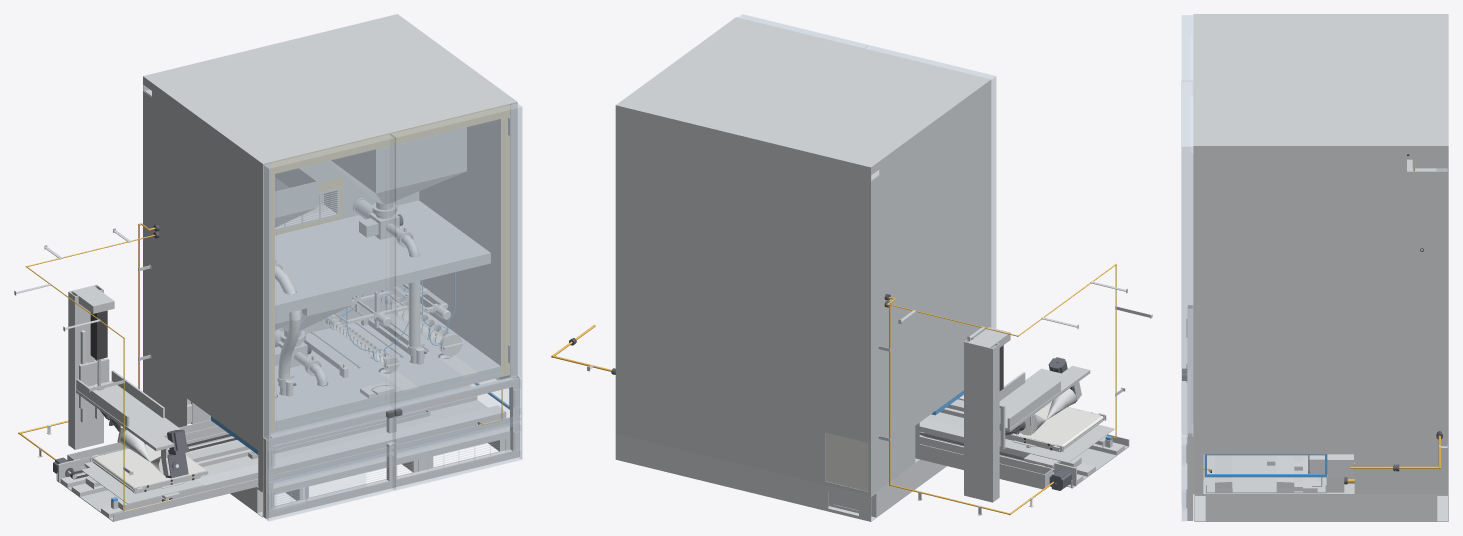
The model's file is modul_C.glb.
The picture shows the model from 3 angles, left to right: view 1: azimuth 30°, elevation 25°; view 2: azimuth 150°, elevation 25°; view 3: azimuth 270°, elevation 25°; orthographic projection. The views are drawn at different scales.
Parts seen in each view (by area): view 1: TOPPING_MODUL__on_seffaf, TOPPING_MODUL__sac, TOPPING_MODUL__paslanmaz, TOPPING_MODUL__celik, TOPPING_MODUL__yalitim_gorunur, TOPPING_MODUL__sac__ACICI, KAIDE_C__paslanmaz, TOPPING_MODUL__pom, TOPPING_MODUL__hortum_gida, TOPPING_MODUL__bant__TABLA, ELK_TOPPING__kablo, TOPPING_MODUL__sac__ARABA (+9 smaller); view 2: TOPPING_MODUL__sac, KAIDE_C__paslanmaz, TOPPING_MODUL__sac__ACICI, TOPPING_MODUL__on_seffaf, TOPPING_MODUL__pom, TOPPING_MODUL__bant__TABLA, ELK_TOPPING__kablo, TOPPING_MODUL__sac__ARABA, TOPPING_MODUL__celik, ELK_TOPPING__celik; view 3: TOPPING_MODUL__sac, KAIDE_C__paslanmaz, TOPPING_MODUL__on_seffaf, TOPPING_MODUL__celik, TOPPING_MODUL__silikon, ELK_TOPPING__kablo.
Boxes of the visible parts, box(x1,y1,x2,y2) form: TOPPING_MODUL__on_seffaf: box(263, 103, 522, 521); TOPPING_MODUL__sac: box(56, 14, 517, 521); TOPPING_MODUL__paslanmaz: box(272, 117, 509, 432); TOPPING_MODUL__celik: box(60, 322, 519, 518); TOPPING_MODUL__yalitim_gorunur: box(270, 104, 509, 432); TOPPING_MODUL__sac__ACICI: box(76, 358, 180, 451); KAIDE_C__paslanmaz: box(187, 399, 510, 517); TOPPING_MODUL__pom: box(275, 188, 477, 398); TOPPING_MODUL__hortum_gida: box(275, 266, 420, 379); TOPPING_MODUL__bant__TABLA: box(93, 445, 206, 489); ELK_TOPPING__kablo: box(18, 223, 502, 511); TOPPING_MODUL__sac__ARABA: box(81, 466, 204, 503); TOPPING_MODUL__sac: box(615, 17, 1129, 502); KAIDE_C__paslanmaz: box(615, 433, 946, 521); TOPPING_MODUL__sac__ACICI: box(999, 365, 1090, 449); TOPPING_MODUL__on_seffaf: box(738, 14, 996, 398); TOPPING_MODUL__pom: box(826, 432, 868, 491); TOPPING_MODUL__bant__TABLA: box(1013, 403, 1103, 448); ELK_TOPPING__kablo: box(551, 264, 1116, 515); TOPPING_MODUL__sac__ARABA: box(1005, 424, 1114, 462); TOPPING_MODUL__celik: box(919, 407, 1124, 483); ELK_TOPPING__celik: box(587, 281, 1152, 515); TOPPING_MODUL__sac: box(1193, 14, 1448, 494); KAIDE_C__paslanmaz: box(1194, 494, 1448, 521); TOPPING_MODUL__on_seffaf: box(1181, 15, 1193, 521); TOPPING_MODUL__celik: box(1186, 305, 1353, 520); TOPPING_MODUL__silikon: box(1204, 454, 1327, 477); ELK_TOPPING__kablo: box(1203, 168, 1440, 482).
Size of the model in its own units: 2.05 by 1.41 by 0.909.
